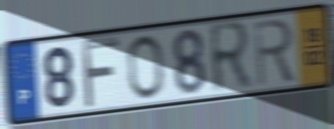8: (170, 27, 207, 98), (42, 44, 77, 112)
F: (79, 35, 122, 112)
O: (125, 33, 167, 101)
R: (207, 18, 254, 99), (252, 16, 298, 90)
